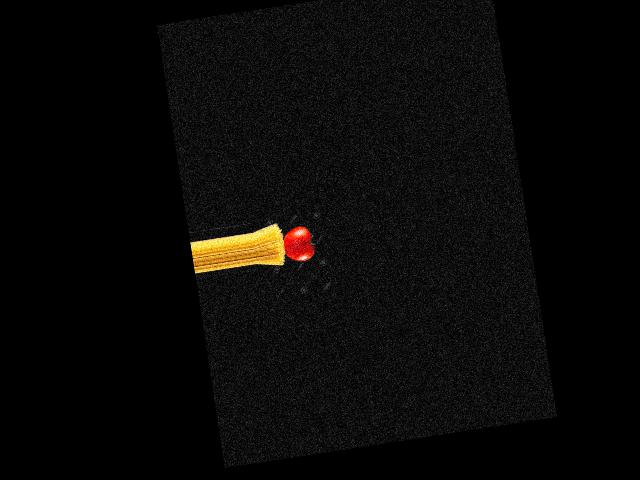tomato: (281, 224, 315, 262)
